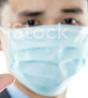with_mask: (1, 2, 88, 98)
